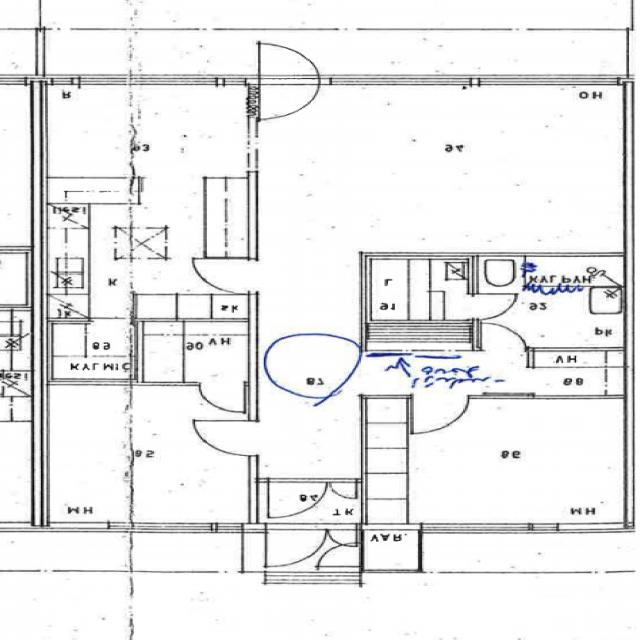door: (261, 37, 321, 85), (261, 74, 321, 122), (268, 522, 328, 568), (191, 257, 259, 292), (270, 477, 328, 517), (412, 394, 469, 434), (193, 420, 259, 454), (198, 380, 246, 414), (482, 320, 527, 350), (91, 290, 133, 321), (472, 292, 522, 318), (488, 366, 534, 392), (323, 542, 366, 566), (329, 522, 358, 549), (329, 478, 359, 500)
